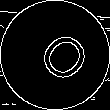O_SW: (21, 22, 88, 88)
